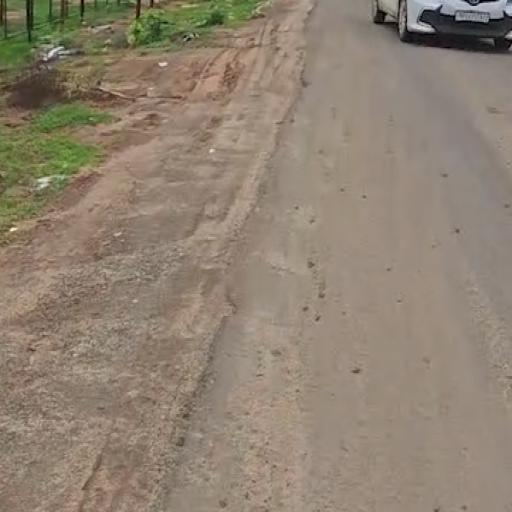edge_damage: (127, 37, 349, 505)
